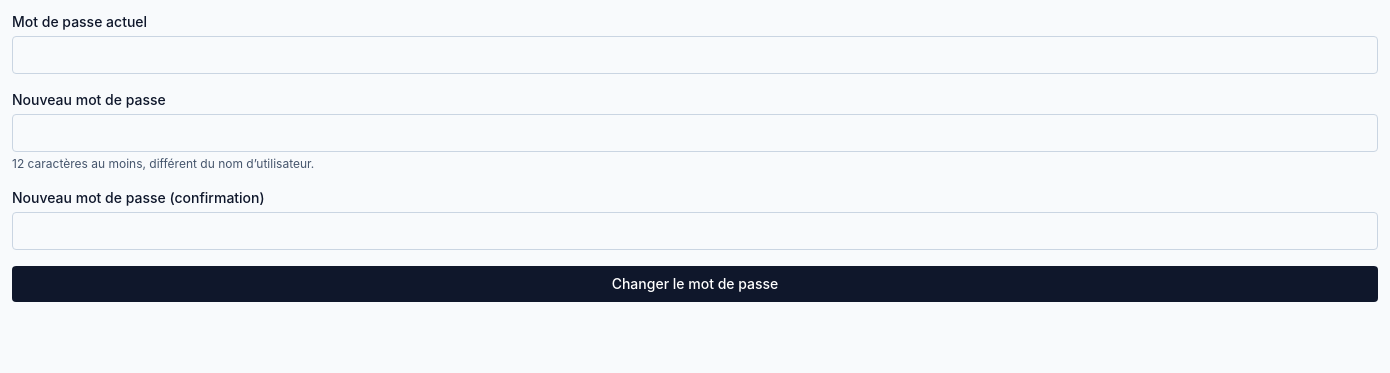
ChangePasswordForm › translates a wrong current password
Type "old password 123" into the password field labelled "Mot de passe actuel". click: (695, 55)
box: [12,36,1378,74]
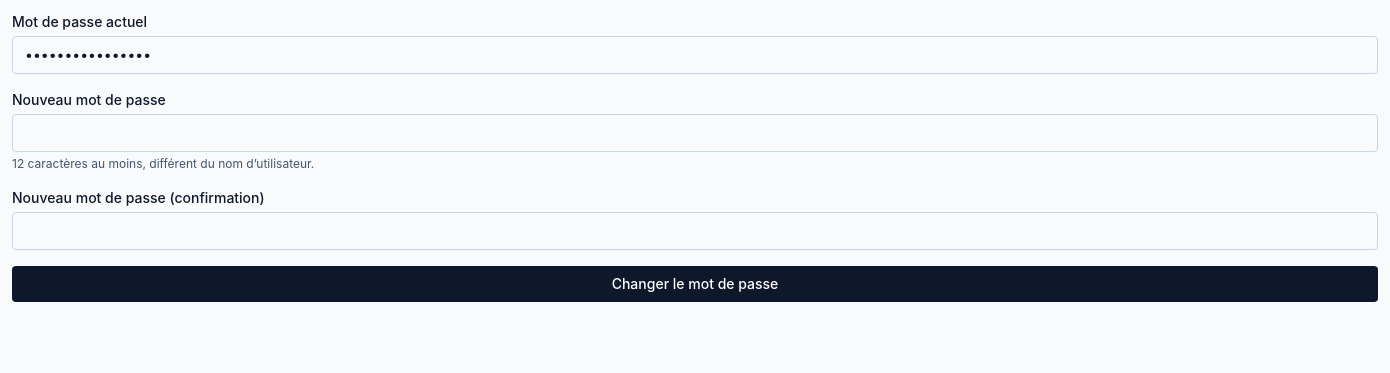
Type "correct horse battery" into the password field labelled "Nouveau mot de passe". click: (695, 133)
box: [12,114,1378,152]
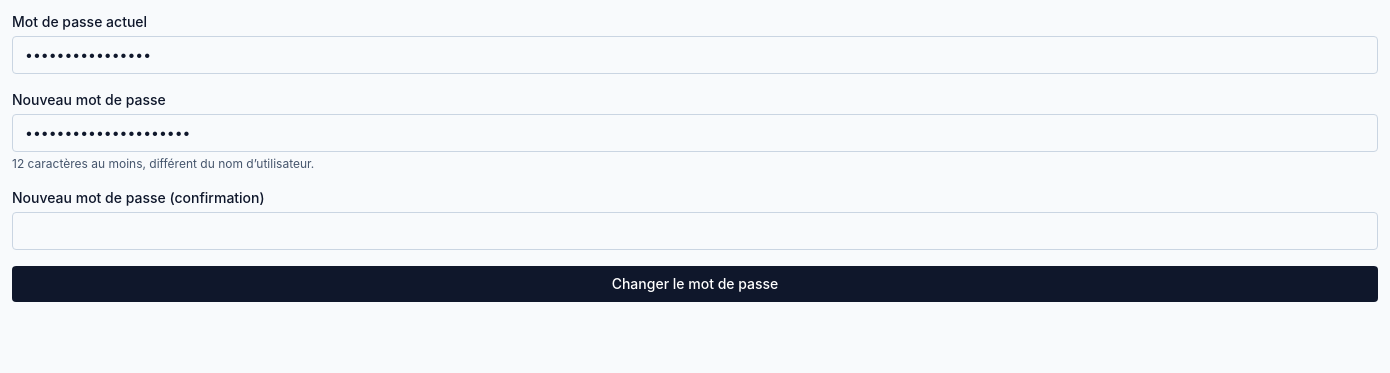
Type "correct horse battery" into the password field labelled "Nouveau mot de passe (confirmation)". click: (695, 231)
box: [12,212,1378,250]
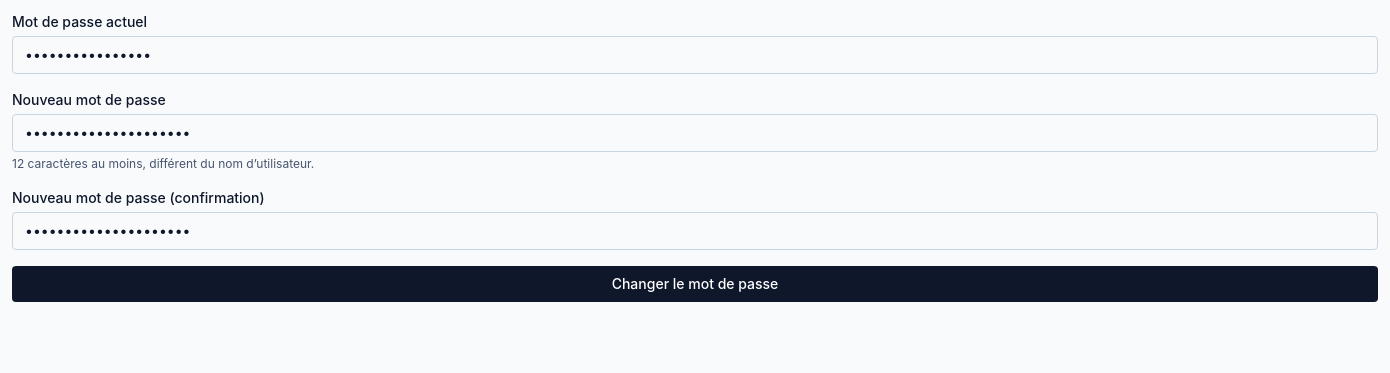
Click the button "Changer le mot de passe". click: (695, 284)
box: [12,266,1378,302]
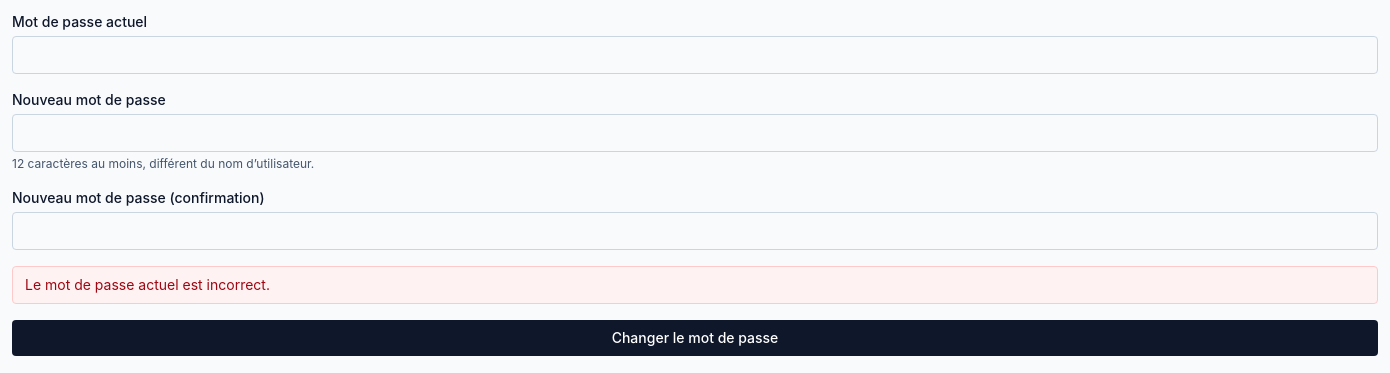
Now the message reads "Le mot de passe actuel est incorrect.", box [25,276,270,293]
Now the password field labelled "Mot de passe actuel" is empty, box [12,36,1378,74]
